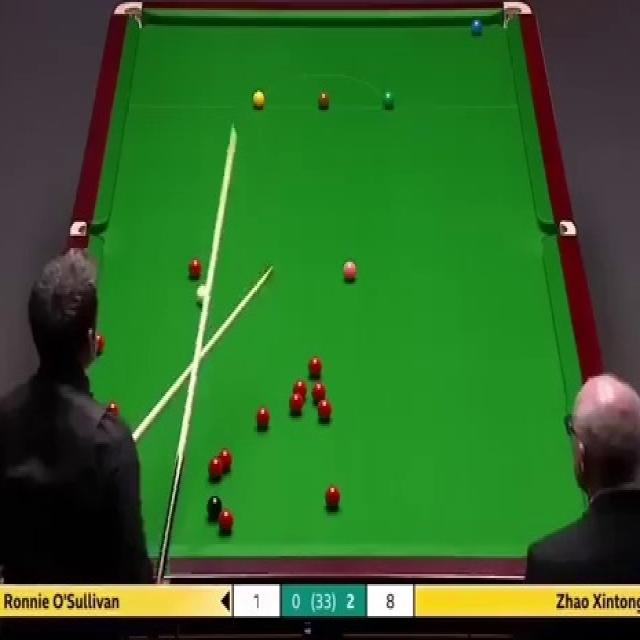black-ball: (207, 498, 223, 518)
blue-ball: (470, 19, 483, 36)
brown-ball: (317, 90, 330, 109)
green-ball: (381, 90, 394, 109)
pink-ball: (342, 262, 358, 284)
red-ball: (306, 354, 324, 378), (218, 448, 232, 474), (317, 396, 331, 421), (327, 485, 340, 511), (255, 404, 269, 428), (208, 458, 223, 480), (290, 394, 305, 415), (292, 378, 307, 399), (219, 515, 234, 536), (312, 381, 326, 403), (105, 399, 121, 415), (188, 260, 202, 278), (96, 333, 105, 358)
white-ball: (195, 283, 206, 304)
yellow-ball: (252, 90, 265, 109)
